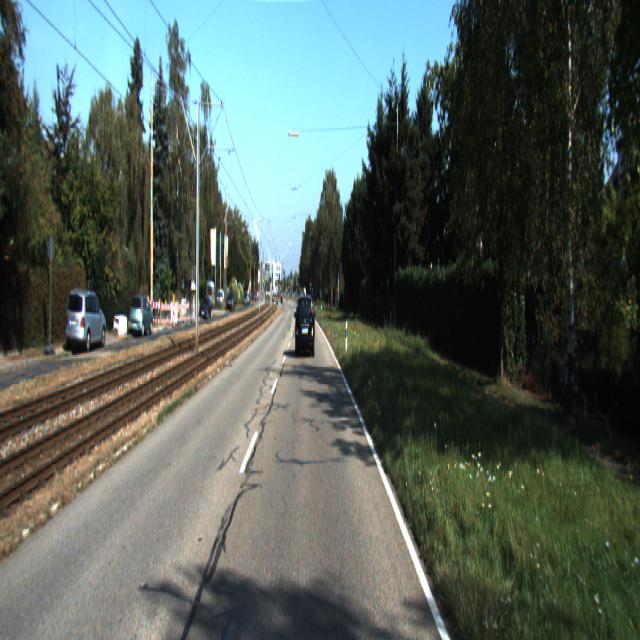Car: (66, 287, 106, 353), (296, 294, 315, 358), (128, 295, 154, 340)
